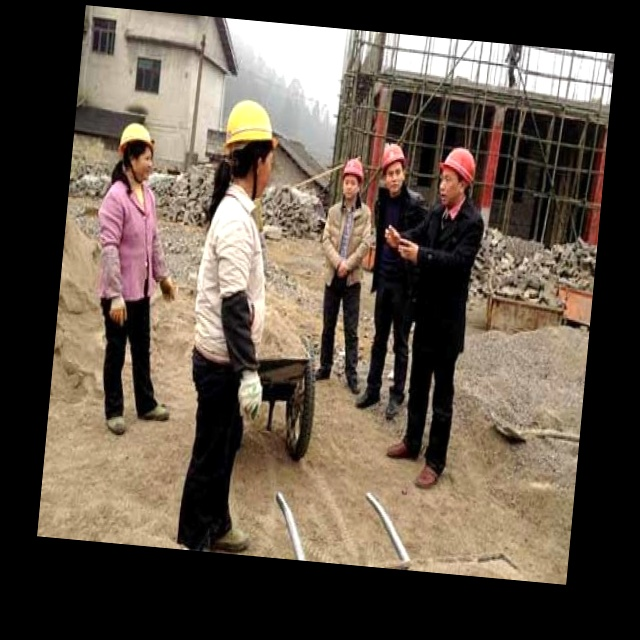Con_Casco: (219, 101, 282, 198), (435, 148, 476, 207)
